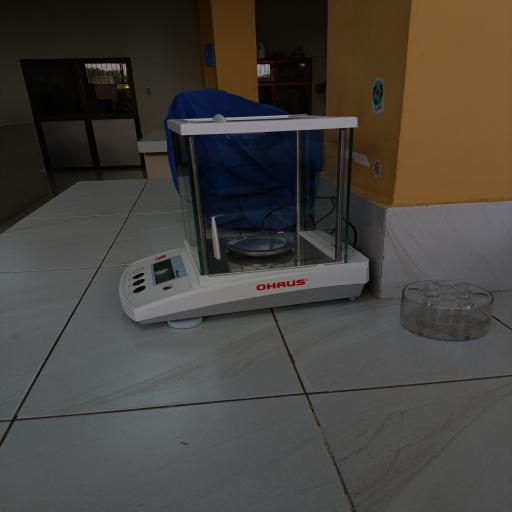Balanza_Analitica_Ohaus: (108, 112, 382, 335)
